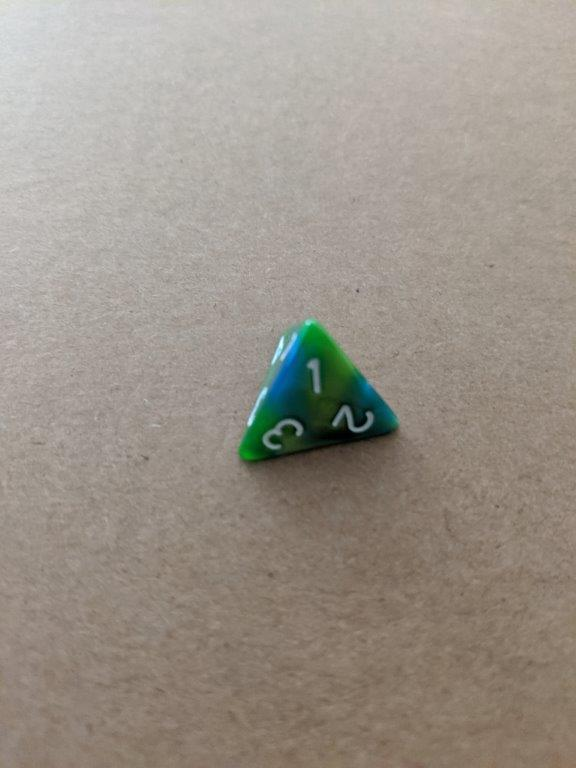d4-1: (236, 319, 401, 468)
